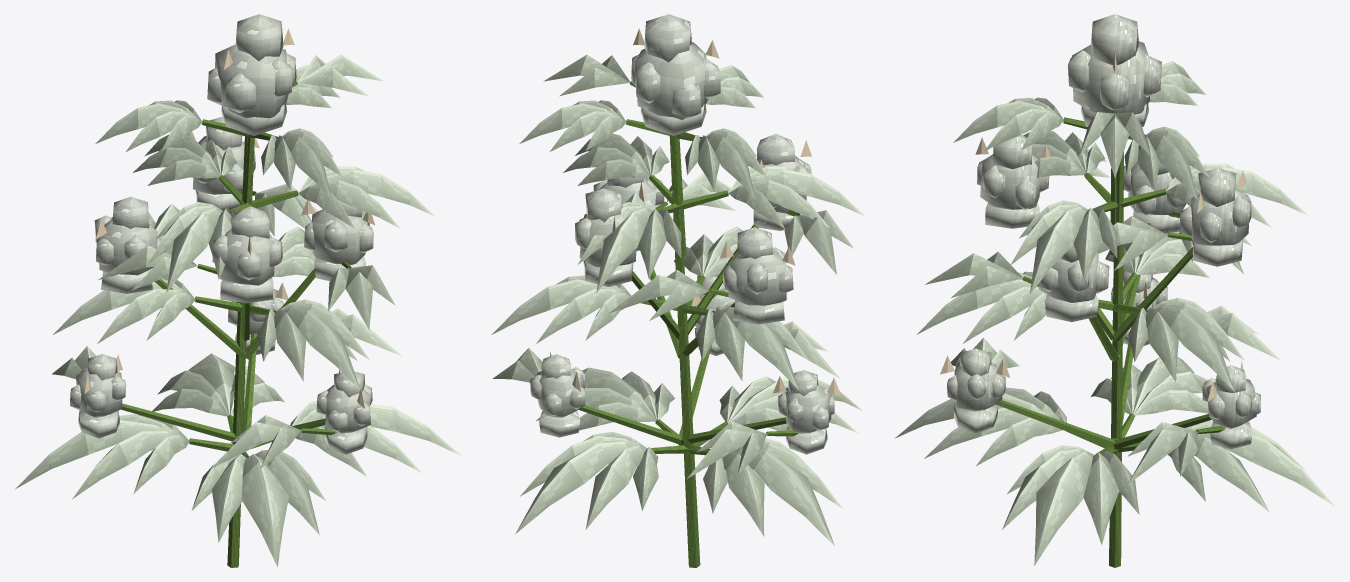
File: tall_2.obj
The picture shows the model from 3 angles, left to right: view 1: azimuth 30°, elevation 25°; view 2: azimuth 150°, elevation 25°; view 3: azimuth 270°, elevation 25°; orthographic projection. The views are drawn at different scales.
Parts seen in each view (by area): view 1: plant; view 2: plant; view 3: plant.
Boxes of the visible parts, x1,y1,x2,y2 form: plant: [15, 14, 461, 567]; plant: [491, 14, 865, 567]; plant: [894, 14, 1334, 567].
Size of the model in its own units: 0.7306 by 1.03 by 0.7306.
